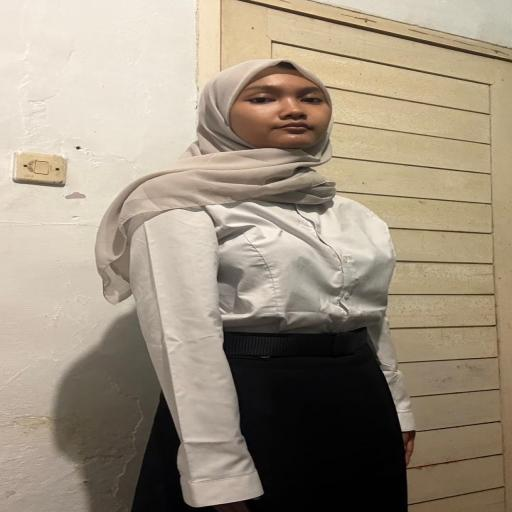kemeja_benar: (116, 188, 402, 338)
kerudung_salah: (123, 54, 376, 210)
rok_benar: (149, 360, 416, 512)
sabuk_ada: (212, 329, 384, 362)
